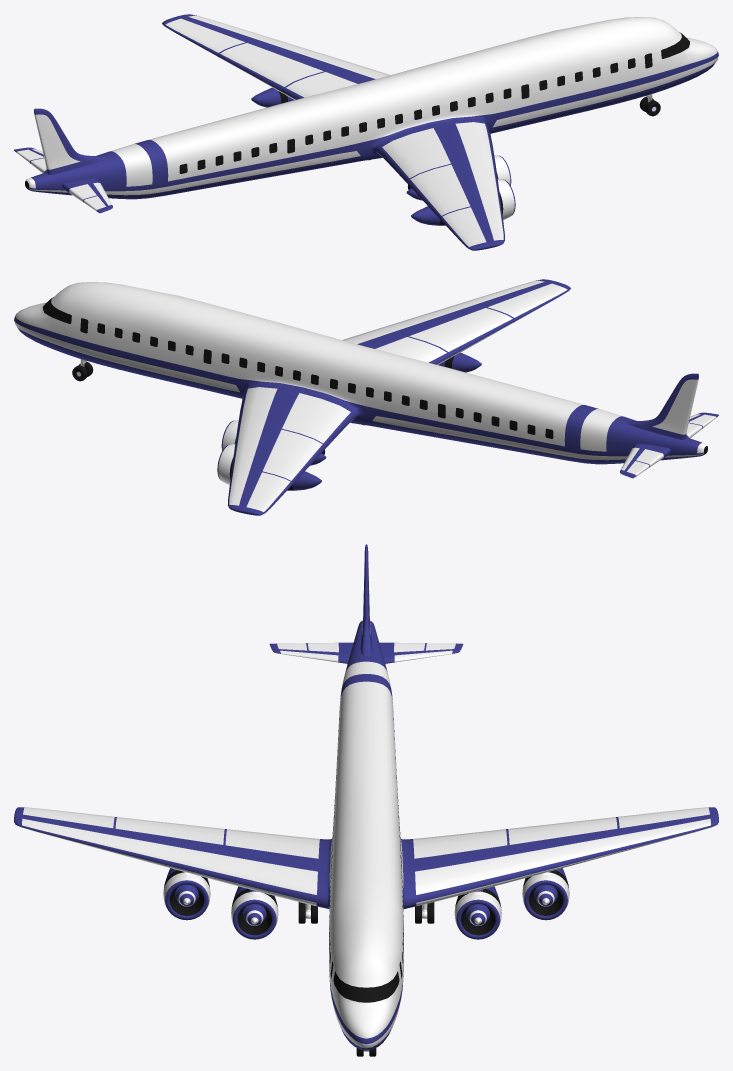
Rendered from airport_airplane_2.glb.
3 views of the same model, one above another, from view 1: azimuth 30°, elevation 25°; view 2: azimuth 150°, elevation 25°; view 3: azimuth 270°, elevation 25° (orthographic). The views are drawn at different scales.
Parts seen in each view (by area): view 1: 18.2.Airplane; view 2: 18.2.Airplane; view 3: 18.2.Airplane.
Boxes of the visible parts, left/top/right/bottom form: 18.2.Airplane: left=14, top=14, right=718, bottom=250; 18.2.Airplane: left=14, top=279, right=718, bottom=515; 18.2.Airplane: left=14, top=544, right=718, bottom=1056.
Size of what is drawn, in the model's own units: 90.29 by 19.31 by 70.95.
Materials: 1 (1 with a texture image).
